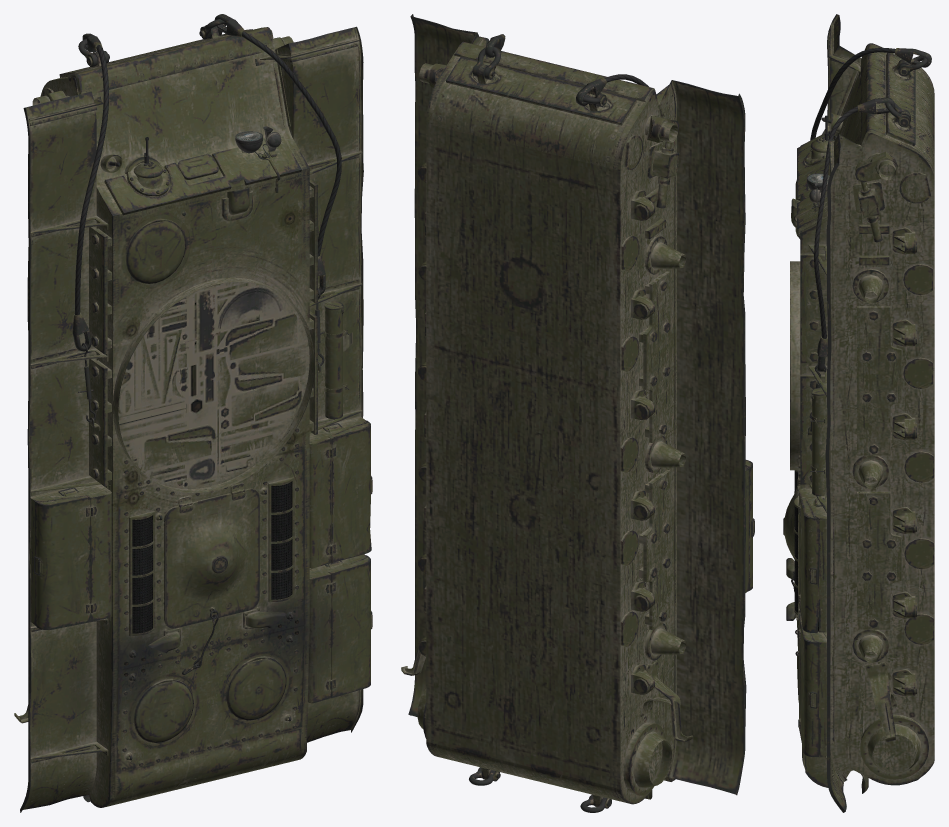
The model's file is Hull.glb.
3 views of the same model, side by side, from view 1: azimuth 30°, elevation 25°; view 2: azimuth 150°, elevation 25°; view 3: azimuth 270°, elevation 25° (orthographic). The views are drawn at different scales.
Visible parts, largest first — view 1: set_0_group_0; view 2: set_0_group_0; view 3: set_0_group_0.
Boxes of the visible parts, x1=… form: set_0_group_0: x1=14, y1=14, x2=372, y2=812; set_0_group_0: x1=401, y1=14, x2=754, y2=812; set_0_group_0: x1=783, y1=14, x2=934, y2=812.
Size of the model in its own units: 3.22 by 6.79 by 1.36.
Materials: 1 (1 with a texture image).
